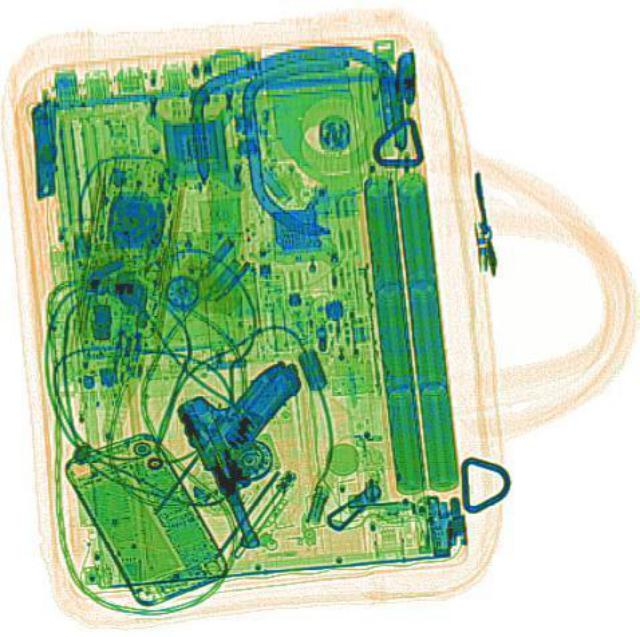Gun: (172, 359, 356, 551)
